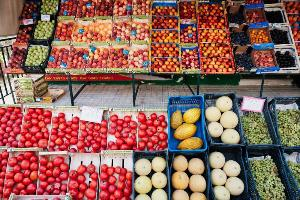apple: (6, 45, 27, 68), (17, 20, 35, 42), (20, 0, 38, 18)
grape: (247, 152, 295, 198), (245, 100, 271, 146), (278, 98, 300, 146)
melon: (168, 154, 210, 200), (204, 92, 240, 144), (211, 144, 243, 200), (135, 154, 167, 200)
peach: (70, 18, 94, 46), (180, 44, 202, 74), (88, 42, 112, 68), (49, 44, 71, 68), (110, 17, 130, 43), (204, 58, 232, 74), (199, 30, 231, 44), (68, 46, 88, 68), (200, 58, 231, 72), (180, 20, 198, 44), (131, 18, 149, 42), (132, 43, 148, 70), (110, 44, 128, 68), (151, 15, 179, 30), (256, 48, 274, 70), (250, 26, 272, 44), (150, 0, 178, 14), (151, 58, 179, 72), (200, 44, 230, 57), (152, 43, 179, 57), (199, 16, 225, 30), (60, 16, 74, 42), (179, 1, 198, 20), (196, 4, 226, 16), (95, 17, 110, 41), (95, 0, 114, 18), (152, 30, 179, 42), (132, 0, 150, 18), (78, 0, 94, 18), (60, 0, 78, 16), (248, 8, 262, 26), (115, 0, 130, 16)
pear: (28, 44, 48, 70), (36, 18, 52, 40), (40, 0, 58, 14)
tomato: (1, 150, 39, 200), (99, 152, 136, 200), (39, 152, 69, 200), (69, 153, 98, 200), (138, 110, 168, 152), (108, 109, 138, 151), (78, 109, 108, 151), (20, 110, 52, 146), (53, 110, 77, 150), (0, 108, 20, 146)
